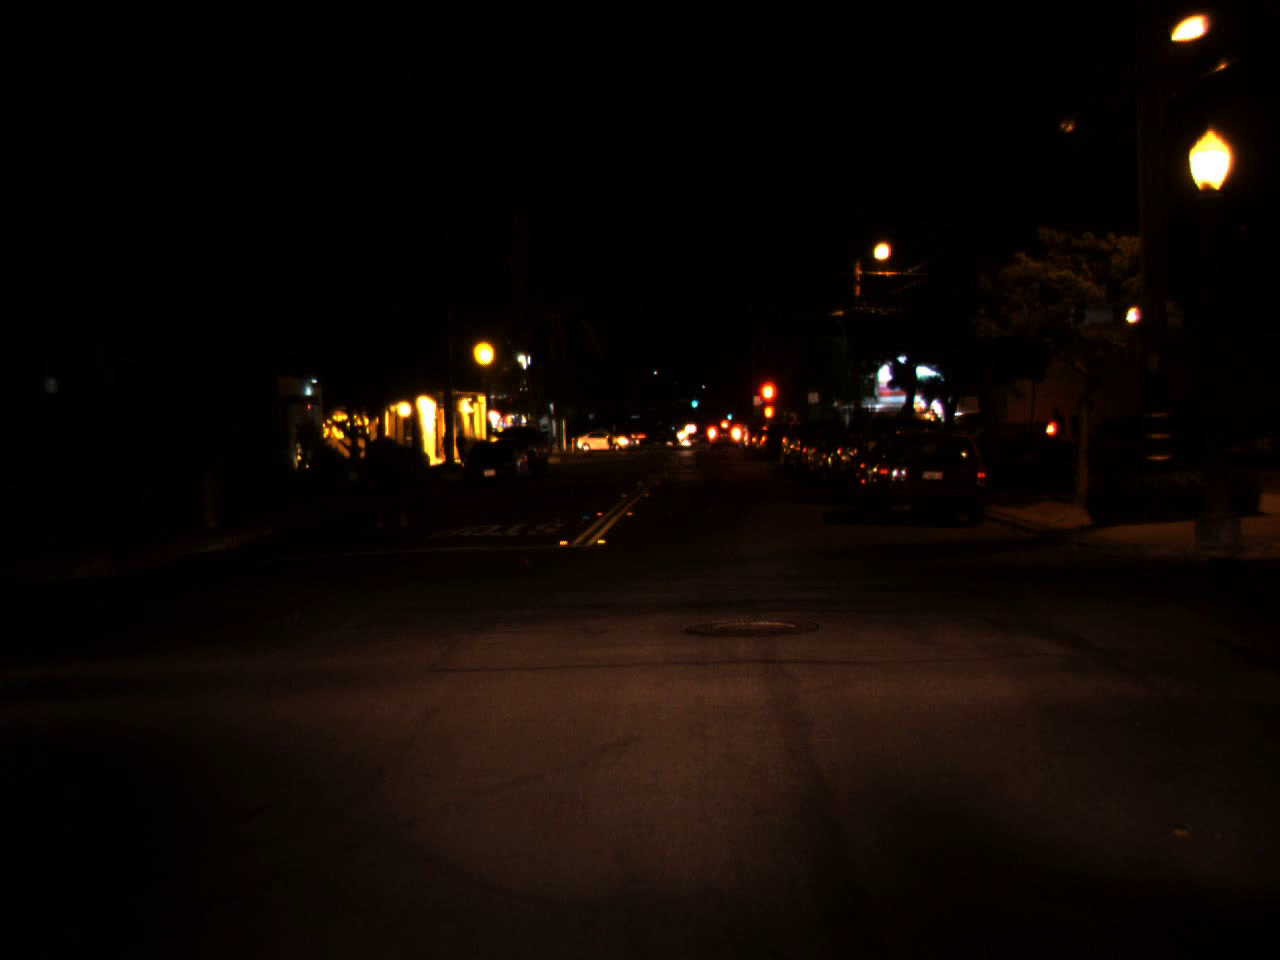go: (689, 392, 698, 410), (725, 408, 732, 420)
stop: (751, 377, 781, 431)
